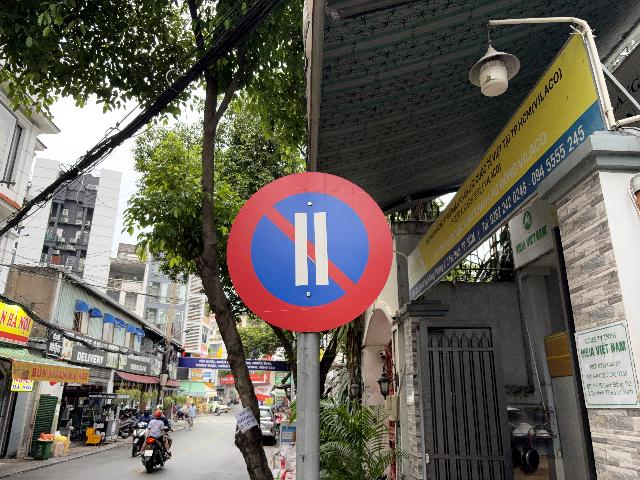cam-do-xe-ngay-chan: (226, 169, 394, 333)
